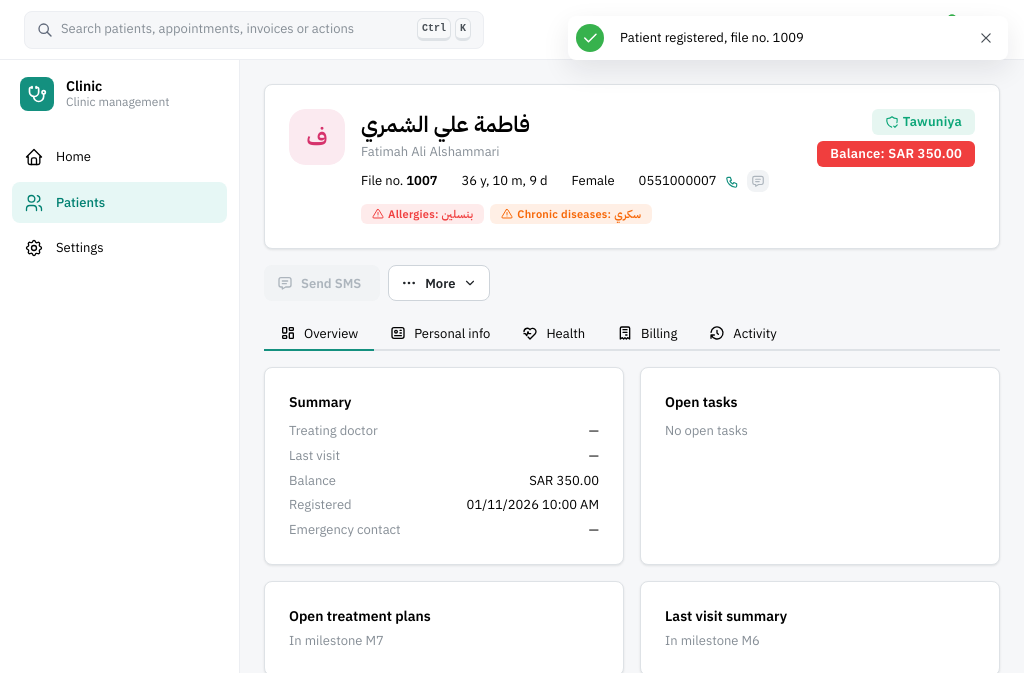
it: patient profile › shows the header card with age, warnings, insurance and balance; health opens the logged endpoint
The image size is (1024, 673).
Expected: the text with test id "file-no" reads "1007", top-left (406, 172), bottom-right (438, 190)
Expected: the text with test id "age" reads "36 y, 10 m, 9 d", top-left (462, 172), bottom-right (548, 190)
Step 1. Click the tab with test id "tab-health" → (554, 334), box top-left (506, 317), bottom-right (601, 351)
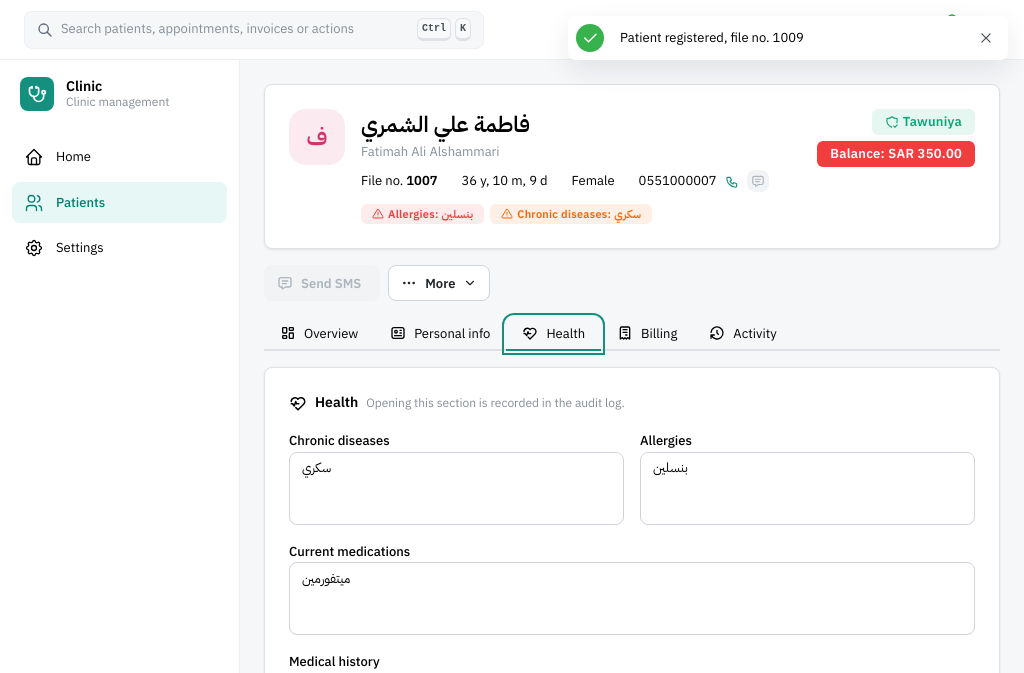
Result: the text box showing "ميتفورمين" is shown at top-left (289, 562), bottom-right (975, 635)
